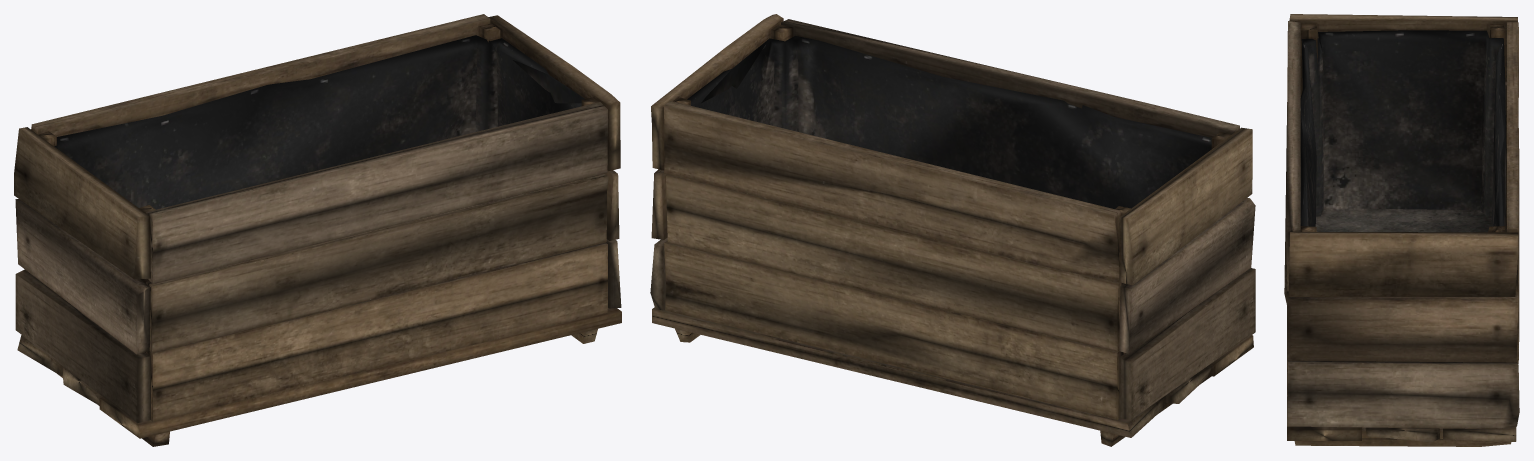
The model's file is planter_box_01_opt.gltf.
The picture shows the model from 3 angles, left to right: view 1: azimuth 30°, elevation 25°; view 2: azimuth 150°, elevation 25°; view 3: azimuth 270°, elevation 25°; orthographic projection. The views are drawn at different scales.
Visible parts, largest first — view 1: planter_box_01; view 2: planter_box_01; view 3: planter_box_01.
Part boxes in pixels (box(x1,y1,x2,y2)): planter_box_01: box(14, 14, 621, 446); planter_box_01: box(650, 14, 1255, 446); planter_box_01: box(1284, 14, 1519, 446).
Bounding box in the file's own units: 0.9048 × 0.425 × 0.4072.
Materials: 1 (1 with a texture image).
